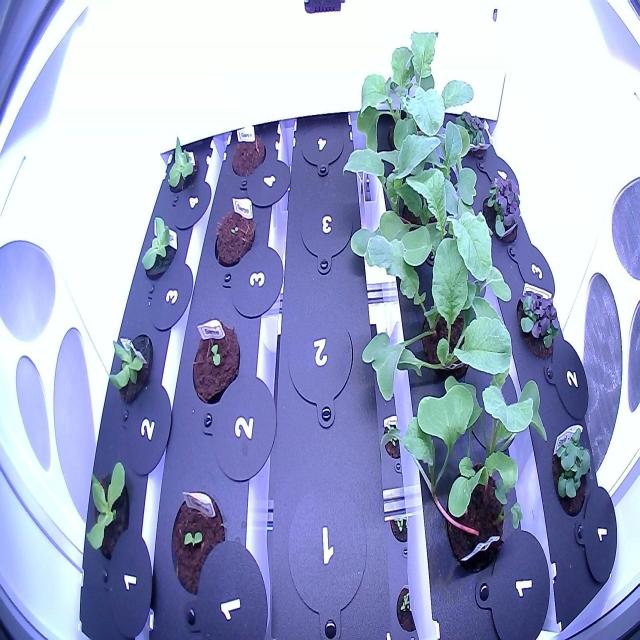Ready: (548, 424, 597, 526), (513, 277, 565, 370), (478, 168, 526, 257), (446, 98, 498, 168)
empty_pod: (278, 466, 378, 639), (281, 298, 359, 437), (296, 179, 354, 281), (297, 116, 347, 178)
germination: (162, 484, 233, 602), (186, 308, 242, 414), (209, 197, 259, 281)
pod: (226, 121, 268, 184)
young: (80, 454, 141, 578), (104, 322, 154, 412), (138, 207, 184, 290), (162, 127, 205, 201)
